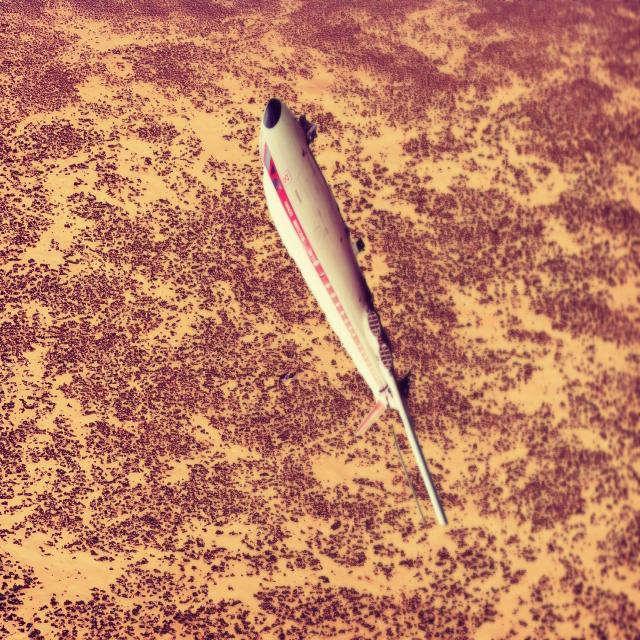airplane: (257, 95, 448, 527)
